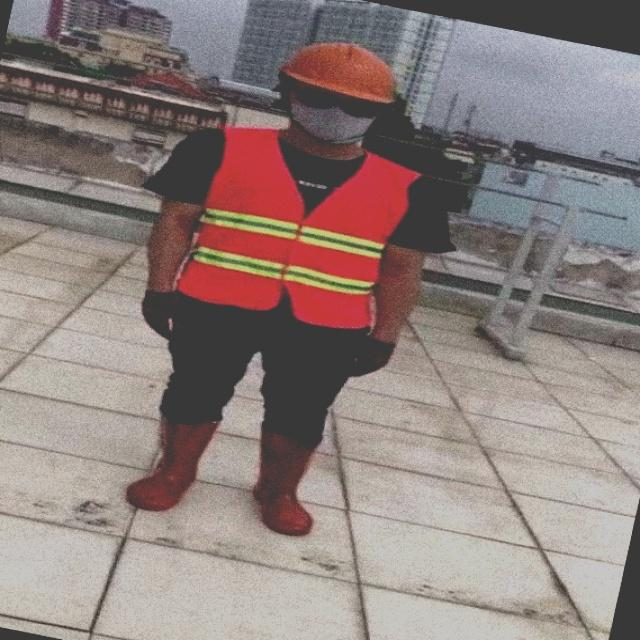helmet: (264, 30, 428, 110)
safety_vest: (170, 110, 423, 362)
